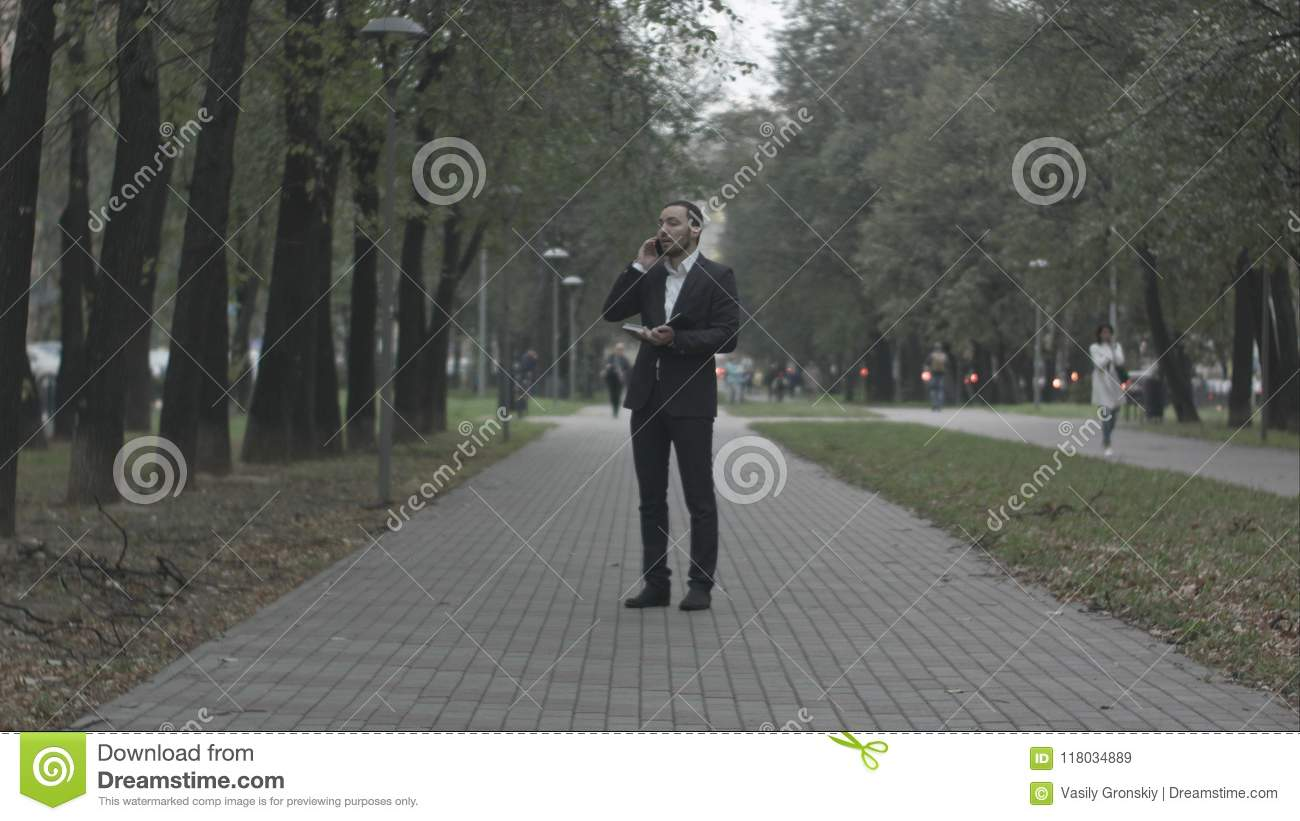talk: (638, 215, 683, 262)
